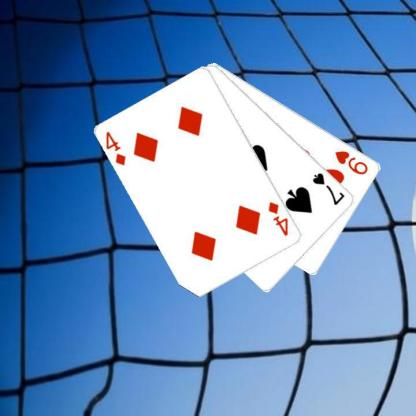4D: (103, 129, 128, 167), (266, 199, 290, 237)
7S: (310, 170, 347, 206)
9H: (333, 148, 370, 176)
